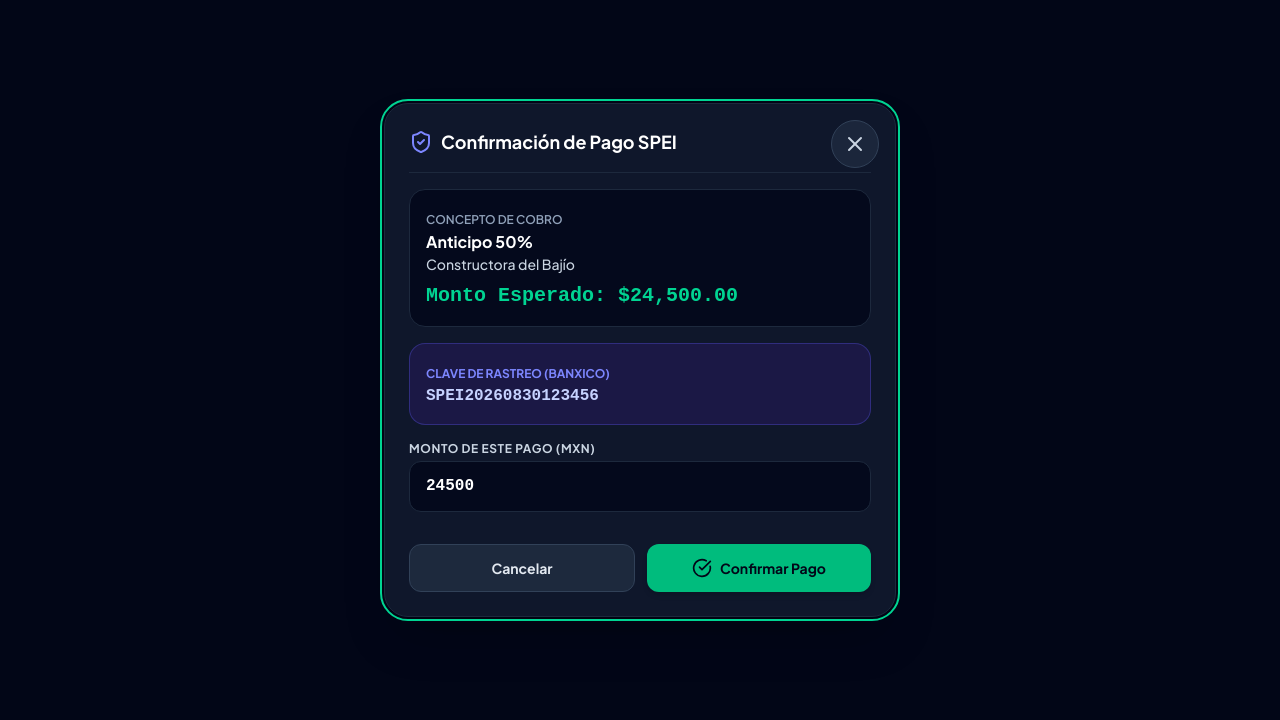
Scenario: confirming a payment › an unreadable amount is a question, not a default (#284) › refuses to confirm on a cleared field instead of substituting the full cobro
Clear the field labelled "Monto de este pago (MXN)" at (640, 487), box [409, 461, 871, 512]
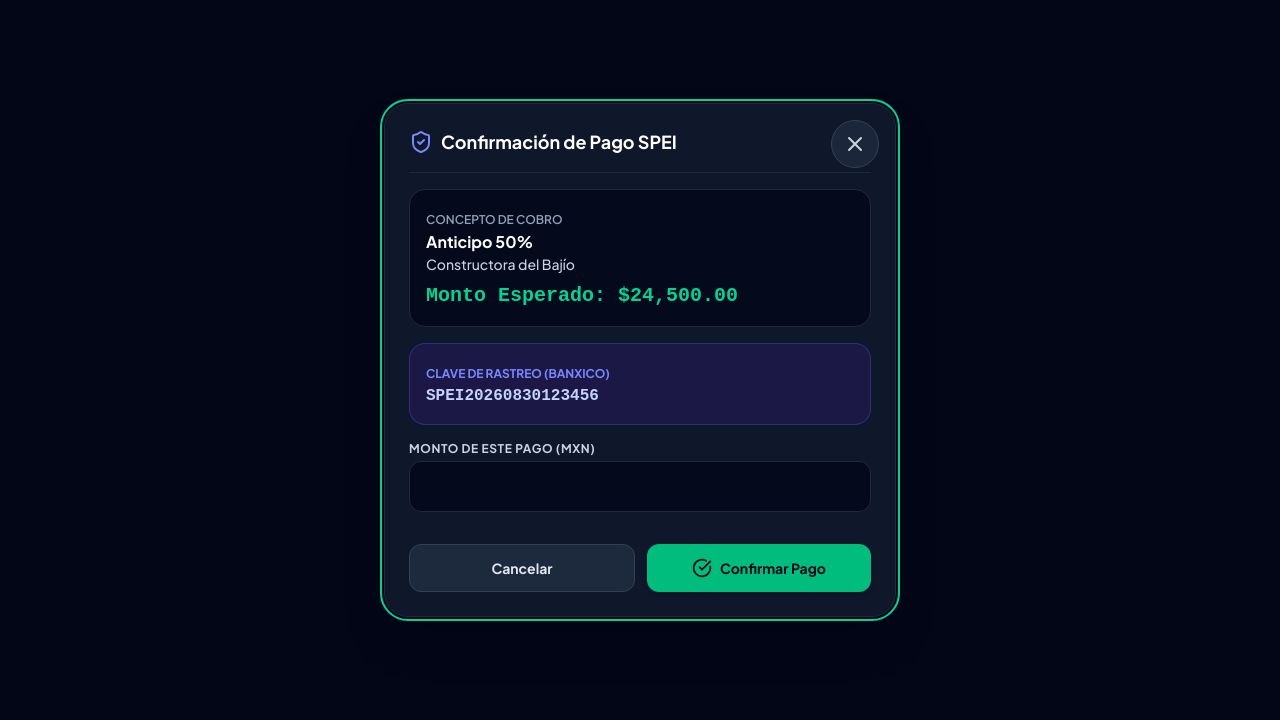
Click the button "Confirmar Pago" at (759, 568), box [647, 544, 871, 592]
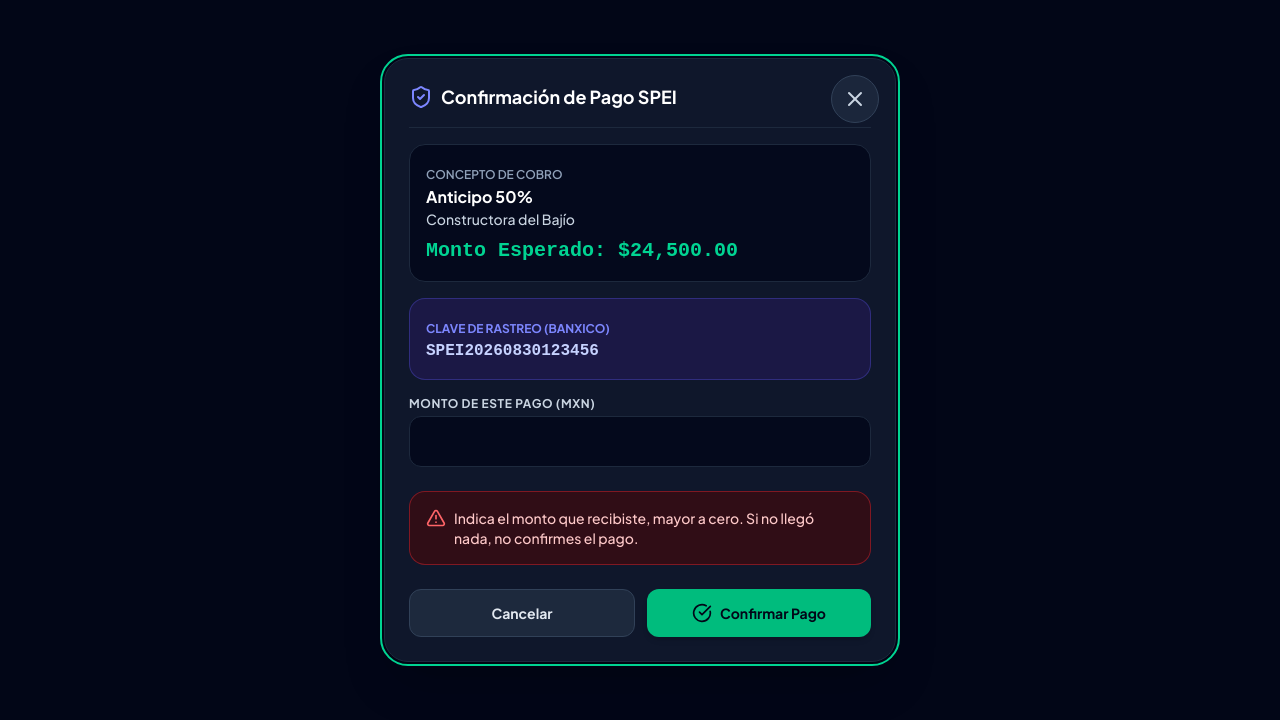
Expected: the message shows "monto que recibiste", [454, 509, 814, 547]
